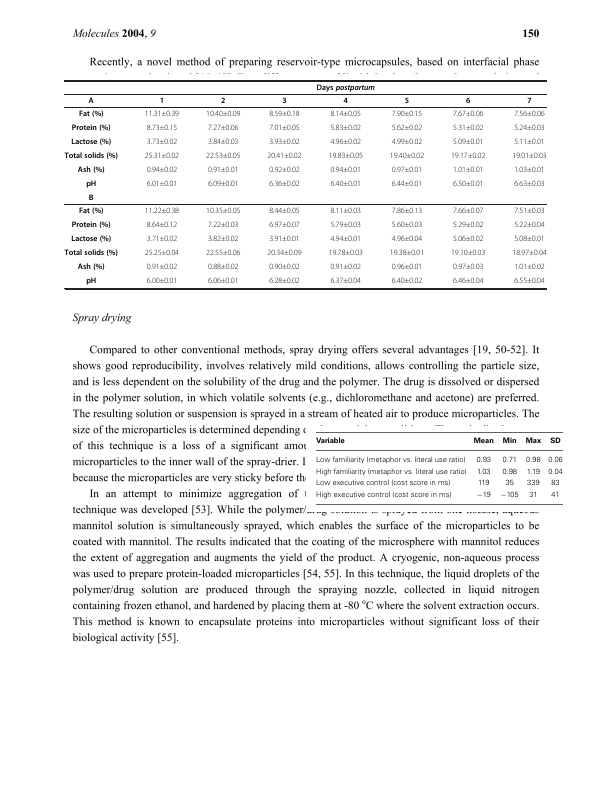borderless: (64, 79, 546, 288), (315, 431, 563, 505)
cell: (314, 468, 467, 477), (314, 456, 466, 465), (314, 491, 452, 500), (314, 479, 451, 488), (64, 151, 119, 161), (64, 248, 119, 258), (316, 83, 376, 92), (70, 137, 112, 147), (70, 234, 112, 244), (71, 123, 111, 133), (71, 220, 111, 230), (77, 165, 105, 175), (77, 262, 105, 272), (78, 109, 104, 119), (78, 206, 104, 216), (144, 110, 180, 117), (205, 110, 241, 117), (144, 152, 180, 159), (205, 152, 241, 159), (266, 152, 302, 159), (328, 152, 364, 159), (389, 152, 425, 159), (450, 152, 486, 159), (511, 152, 547, 159), (144, 207, 180, 214), (205, 207, 241, 214), (144, 249, 180, 256), (205, 249, 241, 256), (266, 249, 302, 256), (328, 249, 364, 256), (389, 249, 425, 256), (450, 249, 486, 256), (511, 249, 547, 256), (314, 437, 345, 445), (268, 110, 301, 117), (329, 110, 362, 117), (513, 110, 546, 117), (268, 124, 301, 131), (329, 124, 362, 131), (513, 124, 546, 131), (268, 138, 301, 145), (329, 138, 362, 145), (513, 138, 546, 145), (268, 166, 301, 173), (329, 166, 362, 173), (513, 166, 546, 173), (268, 180, 301, 187), (329, 180, 362, 187), (513, 180, 546, 187), (268, 207, 301, 214), (329, 207, 362, 214), (513, 207, 546, 214), (268, 221, 301, 228), (329, 221, 362, 228), (513, 221, 546, 228), (268, 235, 301, 242), (329, 235, 362, 242), (513, 235, 546, 242), (268, 263, 301, 270), (329, 263, 362, 270), (513, 263, 546, 270), (268, 277, 301, 284), (329, 277, 362, 284), (513, 277, 546, 284), (391, 110, 423, 117), (452, 110, 484, 117), (146, 124, 178, 131), (207, 124, 239, 131), (391, 124, 423, 131), (452, 124, 484, 131), (146, 138, 178, 145), (207, 138, 239, 145), (391, 138, 423, 145), (452, 138, 484, 145), (146, 166, 178, 173), (207, 166, 239, 173), (391, 166, 423, 173), (452, 166, 484, 173), (146, 180, 178, 187), (207, 180, 239, 187), (391, 180, 423, 187), (452, 180, 484, 187), (391, 207, 423, 214), (452, 207, 484, 214), (146, 221, 178, 228), (207, 221, 239, 228), (391, 221, 423, 228), (452, 221, 484, 228), (146, 235, 178, 242), (207, 235, 239, 242), (391, 235, 423, 242), (452, 235, 484, 242), (146, 263, 178, 270), (207, 263, 239, 270), (391, 263, 423, 270), (452, 263, 484, 270), (146, 277, 178, 284), (207, 277, 239, 284), (391, 277, 423, 284), (452, 277, 484, 284), (499, 491, 519, 500), (472, 437, 494, 445), (524, 456, 541, 465), (475, 456, 491, 465), (501, 456, 517, 465), (547, 456, 563, 465), (475, 468, 491, 477), (501, 468, 517, 477), (547, 468, 563, 477), (475, 491, 491, 500), (524, 437, 541, 445), (525, 468, 540, 477), (525, 479, 540, 488), (501, 437, 517, 445), (476, 479, 490, 488), (85, 179, 97, 189), (85, 276, 97, 286), (549, 437, 561, 445), (504, 479, 514, 488), (550, 479, 560, 488), (528, 491, 538, 500), (550, 491, 560, 500), (88, 96, 95, 106), (342, 96, 349, 106), (159, 96, 165, 106), (220, 96, 226, 106), (281, 96, 287, 106), (404, 96, 410, 106), (465, 96, 471, 106), (526, 96, 532, 106), (88, 193, 94, 203)
